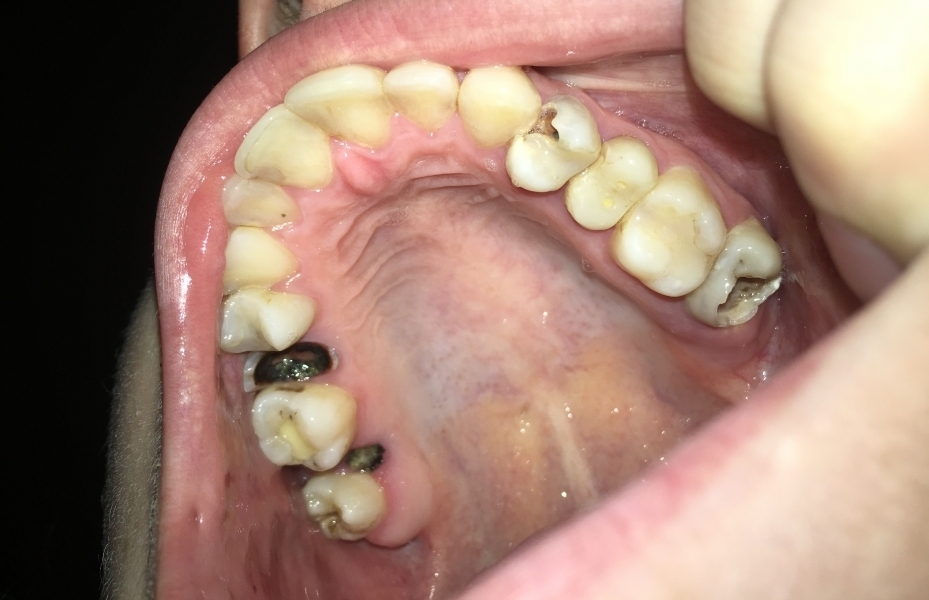UL1BC_decay: (498, 101, 601, 195)
UL1M_healthy: (609, 173, 722, 300)
UL2BC_healthy: (564, 142, 654, 235)
UL2M_decay: (684, 219, 784, 329)
ULCI_healthy: (294, 66, 395, 154)
ULC_healthy: (458, 72, 539, 144)
ULLI_healthy: (386, 65, 459, 131)
UR1BC_healthy: (211, 290, 324, 347)
UR1M_decay: (247, 392, 362, 465)
UR2BC_decay: (240, 340, 335, 405)
UR2M_decay: (299, 463, 392, 537)
URCI_healthy: (232, 103, 330, 187)
URC_healthy: (218, 224, 301, 291)
URLI_healthy: (214, 174, 305, 232)
